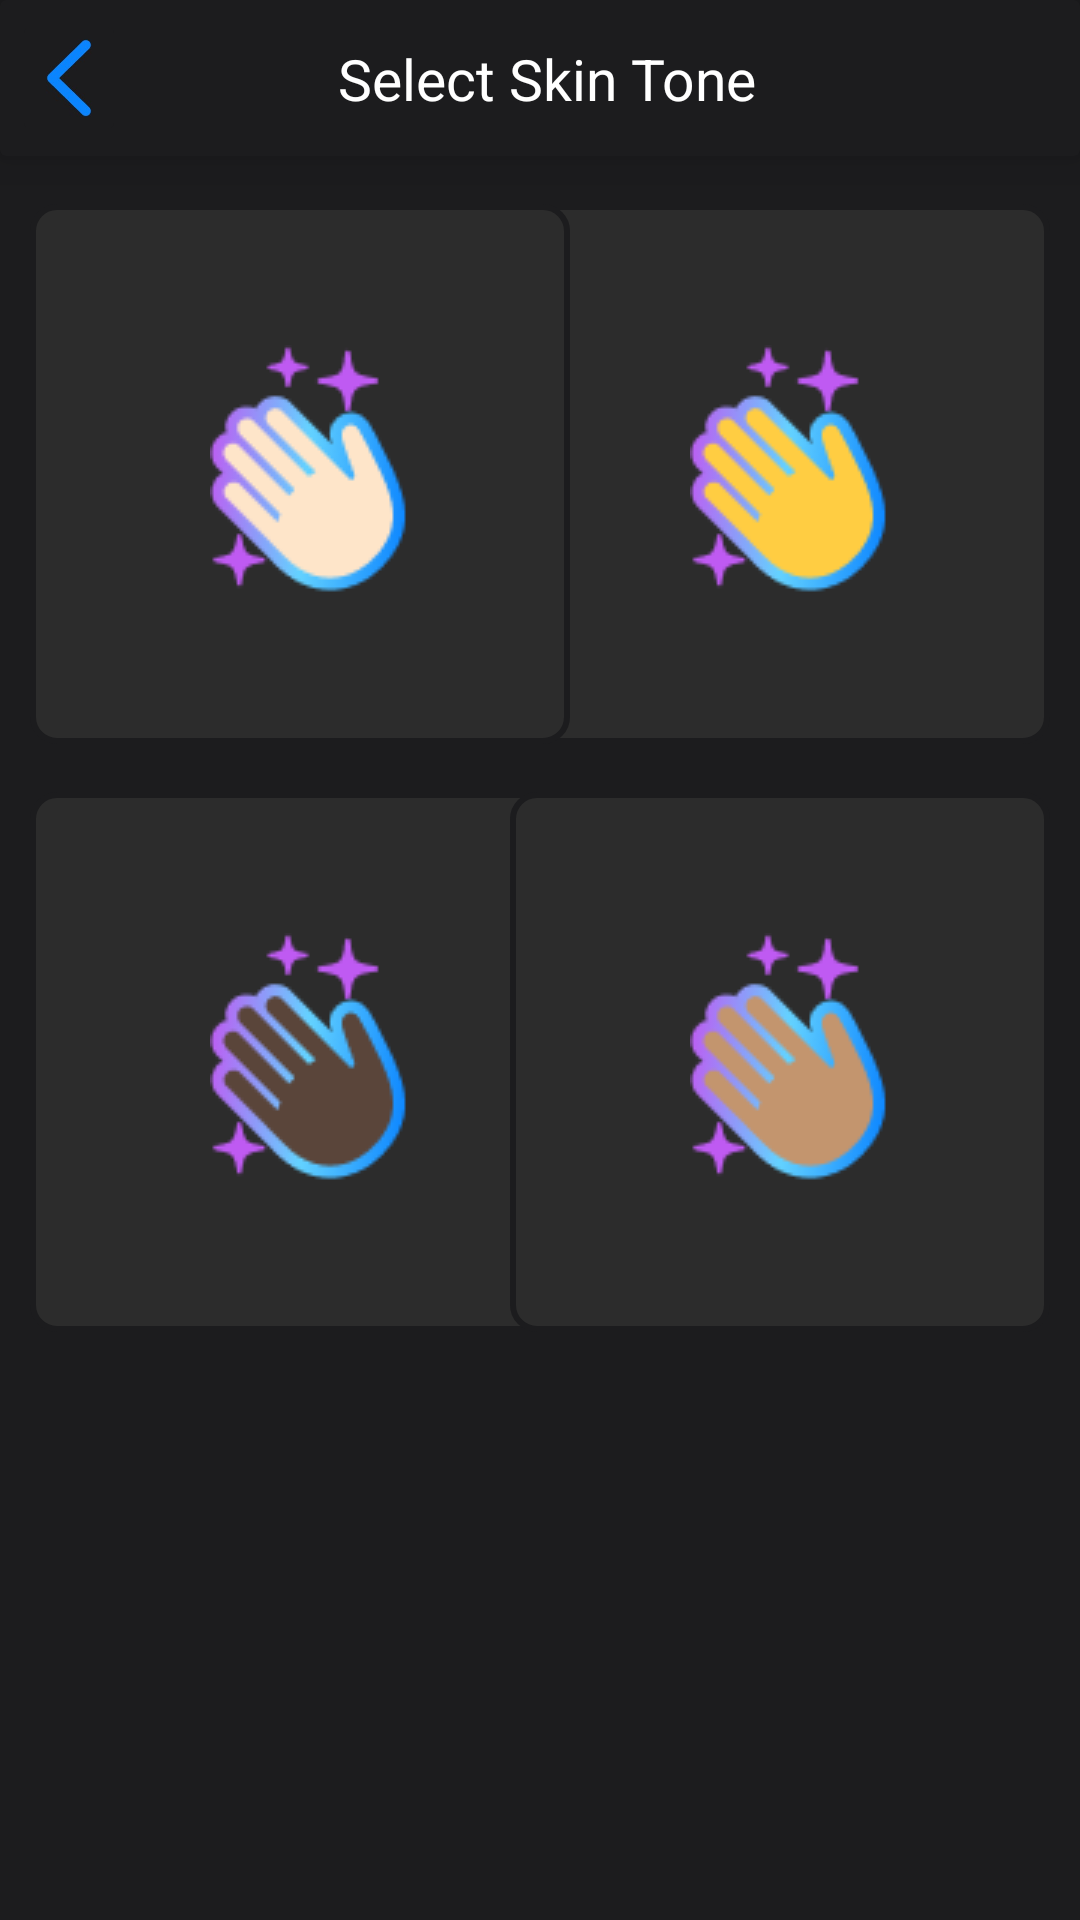

Icon click points for this 1080px x 1920px phone screenshot, format (x=x, y=y):
back to chose style: (x=69, y=78)
